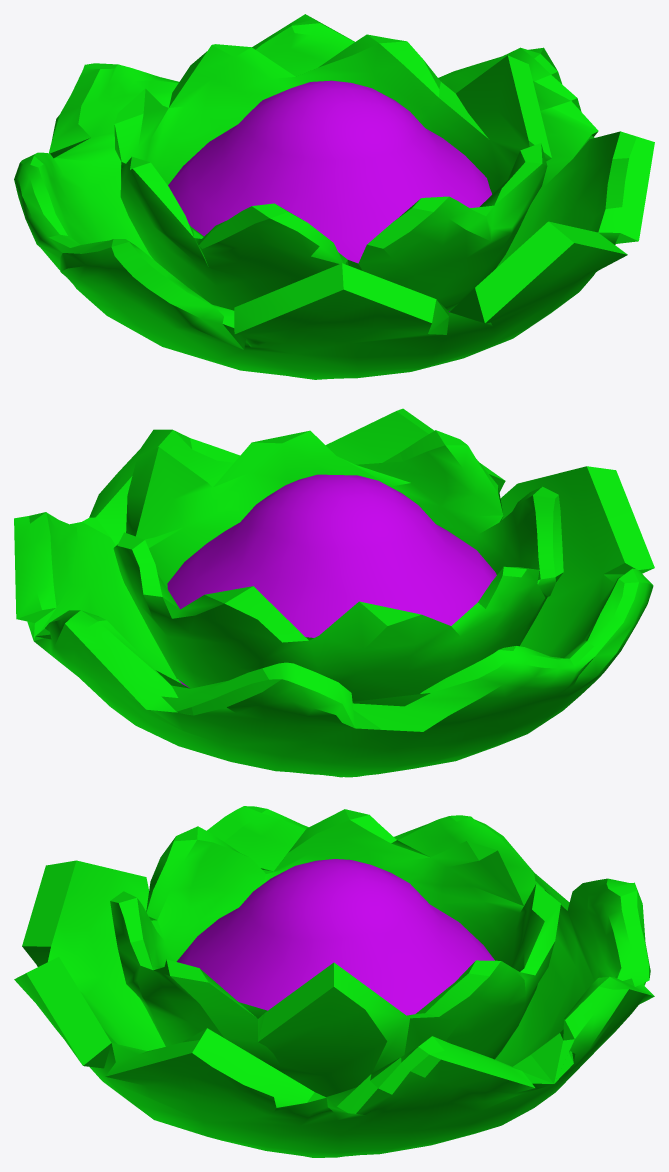
The model's file is Flor01.fbx.
3 views of the same model, one above another, from view 1: azimuth 30°, elevation 25°; view 2: azimuth 150°, elevation 25°; view 3: azimuth 270°, elevation 25° (orthographic).
Visible parts, largest first — view 1: Retopo_Sphere.002; view 2: Retopo_Sphere.002; view 3: Retopo_Sphere.002.
Part boxes in pixels (bbox=[...]): Retopo_Sphere.002: bbox=[14, 14, 654, 379]; Retopo_Sphere.002: bbox=[14, 408, 654, 777]; Retopo_Sphere.002: bbox=[14, 806, 654, 1157].
Bounding box in the file's own units: 363 × 173 × 371.
